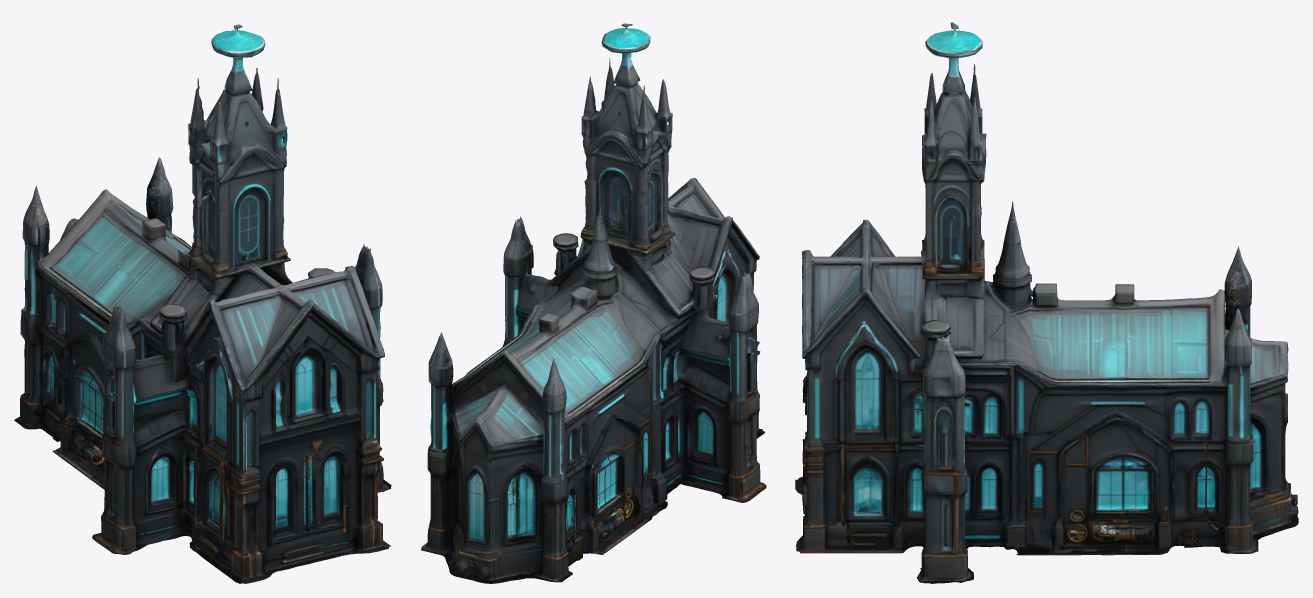
File: base_basic_pbr.fbx
3 views of the same model, side by side, from view 1: azimuth 30°, elevation 25°; view 2: azimuth 150°, elevation 25°; view 3: azimuth 270°, elevation 25° (orthographic). The views are drawn at different scales.
Visible parts, largest first — view 1: model; view 2: model; view 3: model.
Part boxes in pixels (bbox=[...]): model: bbox=[14, 24, 391, 583]; model: bbox=[421, 23, 766, 583]; model: bbox=[795, 22, 1298, 583].
Size of the model in its own units: 107 by 182 by 166.
Materials: 1 (1 with a texture image).
